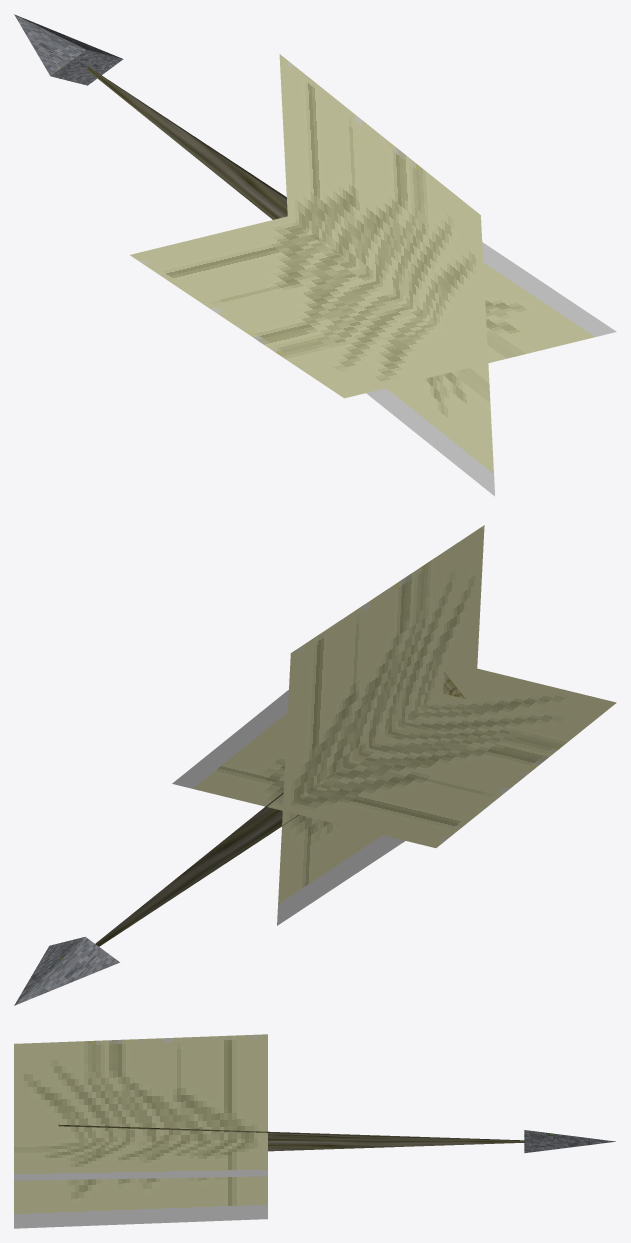
Rendered from arrow.obj.
3 views of the same model, one above another, from view 1: azimuth 30°, elevation 25°; view 2: azimuth 150°, elevation 25°; view 3: azimuth 270°, elevation 25° (orthographic). The views are drawn at different scales.
Parts seen in each view (by area): view 1: Duplicate01, Box02, Box01; view 2: Duplicate01, Box02, Box01; view 3: Duplicate01, Box02, Box01.
Part boxes in pixels (<box>): Duplicate01: <box>279,54,494,496</box>; Box02: <box>130,216,616,398</box>; Box01: <box>14,14,287,219</box>; Duplicate01: <box>277,525,484,925</box>; Box02: <box>172,668,616,847</box>; Box01: <box>14,672,465,1005</box>; Duplicate01: <box>14,1034,267,1228</box>; Box02: <box>14,1141,267,1180</box>; Box01: <box>58,1124,615,1153</box>.
Bounding box in the file's own units: 15.25 × 15.23 × 43.85.
